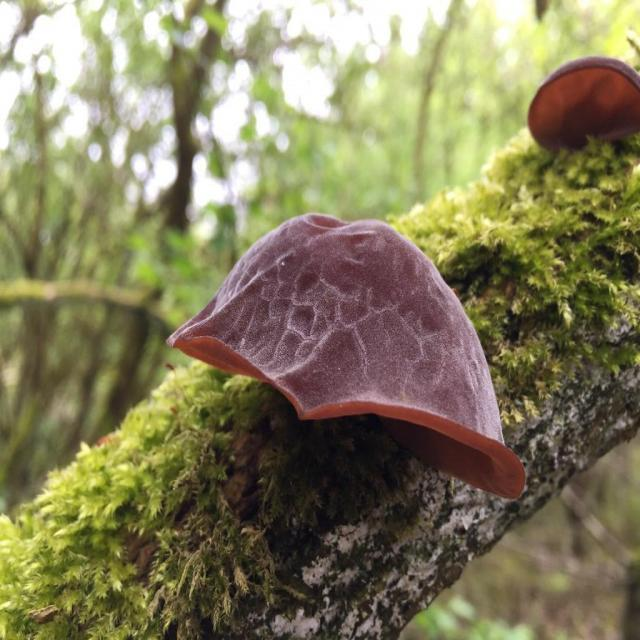Auricularia auricula: (168, 213, 527, 501), (526, 57, 640, 153)
